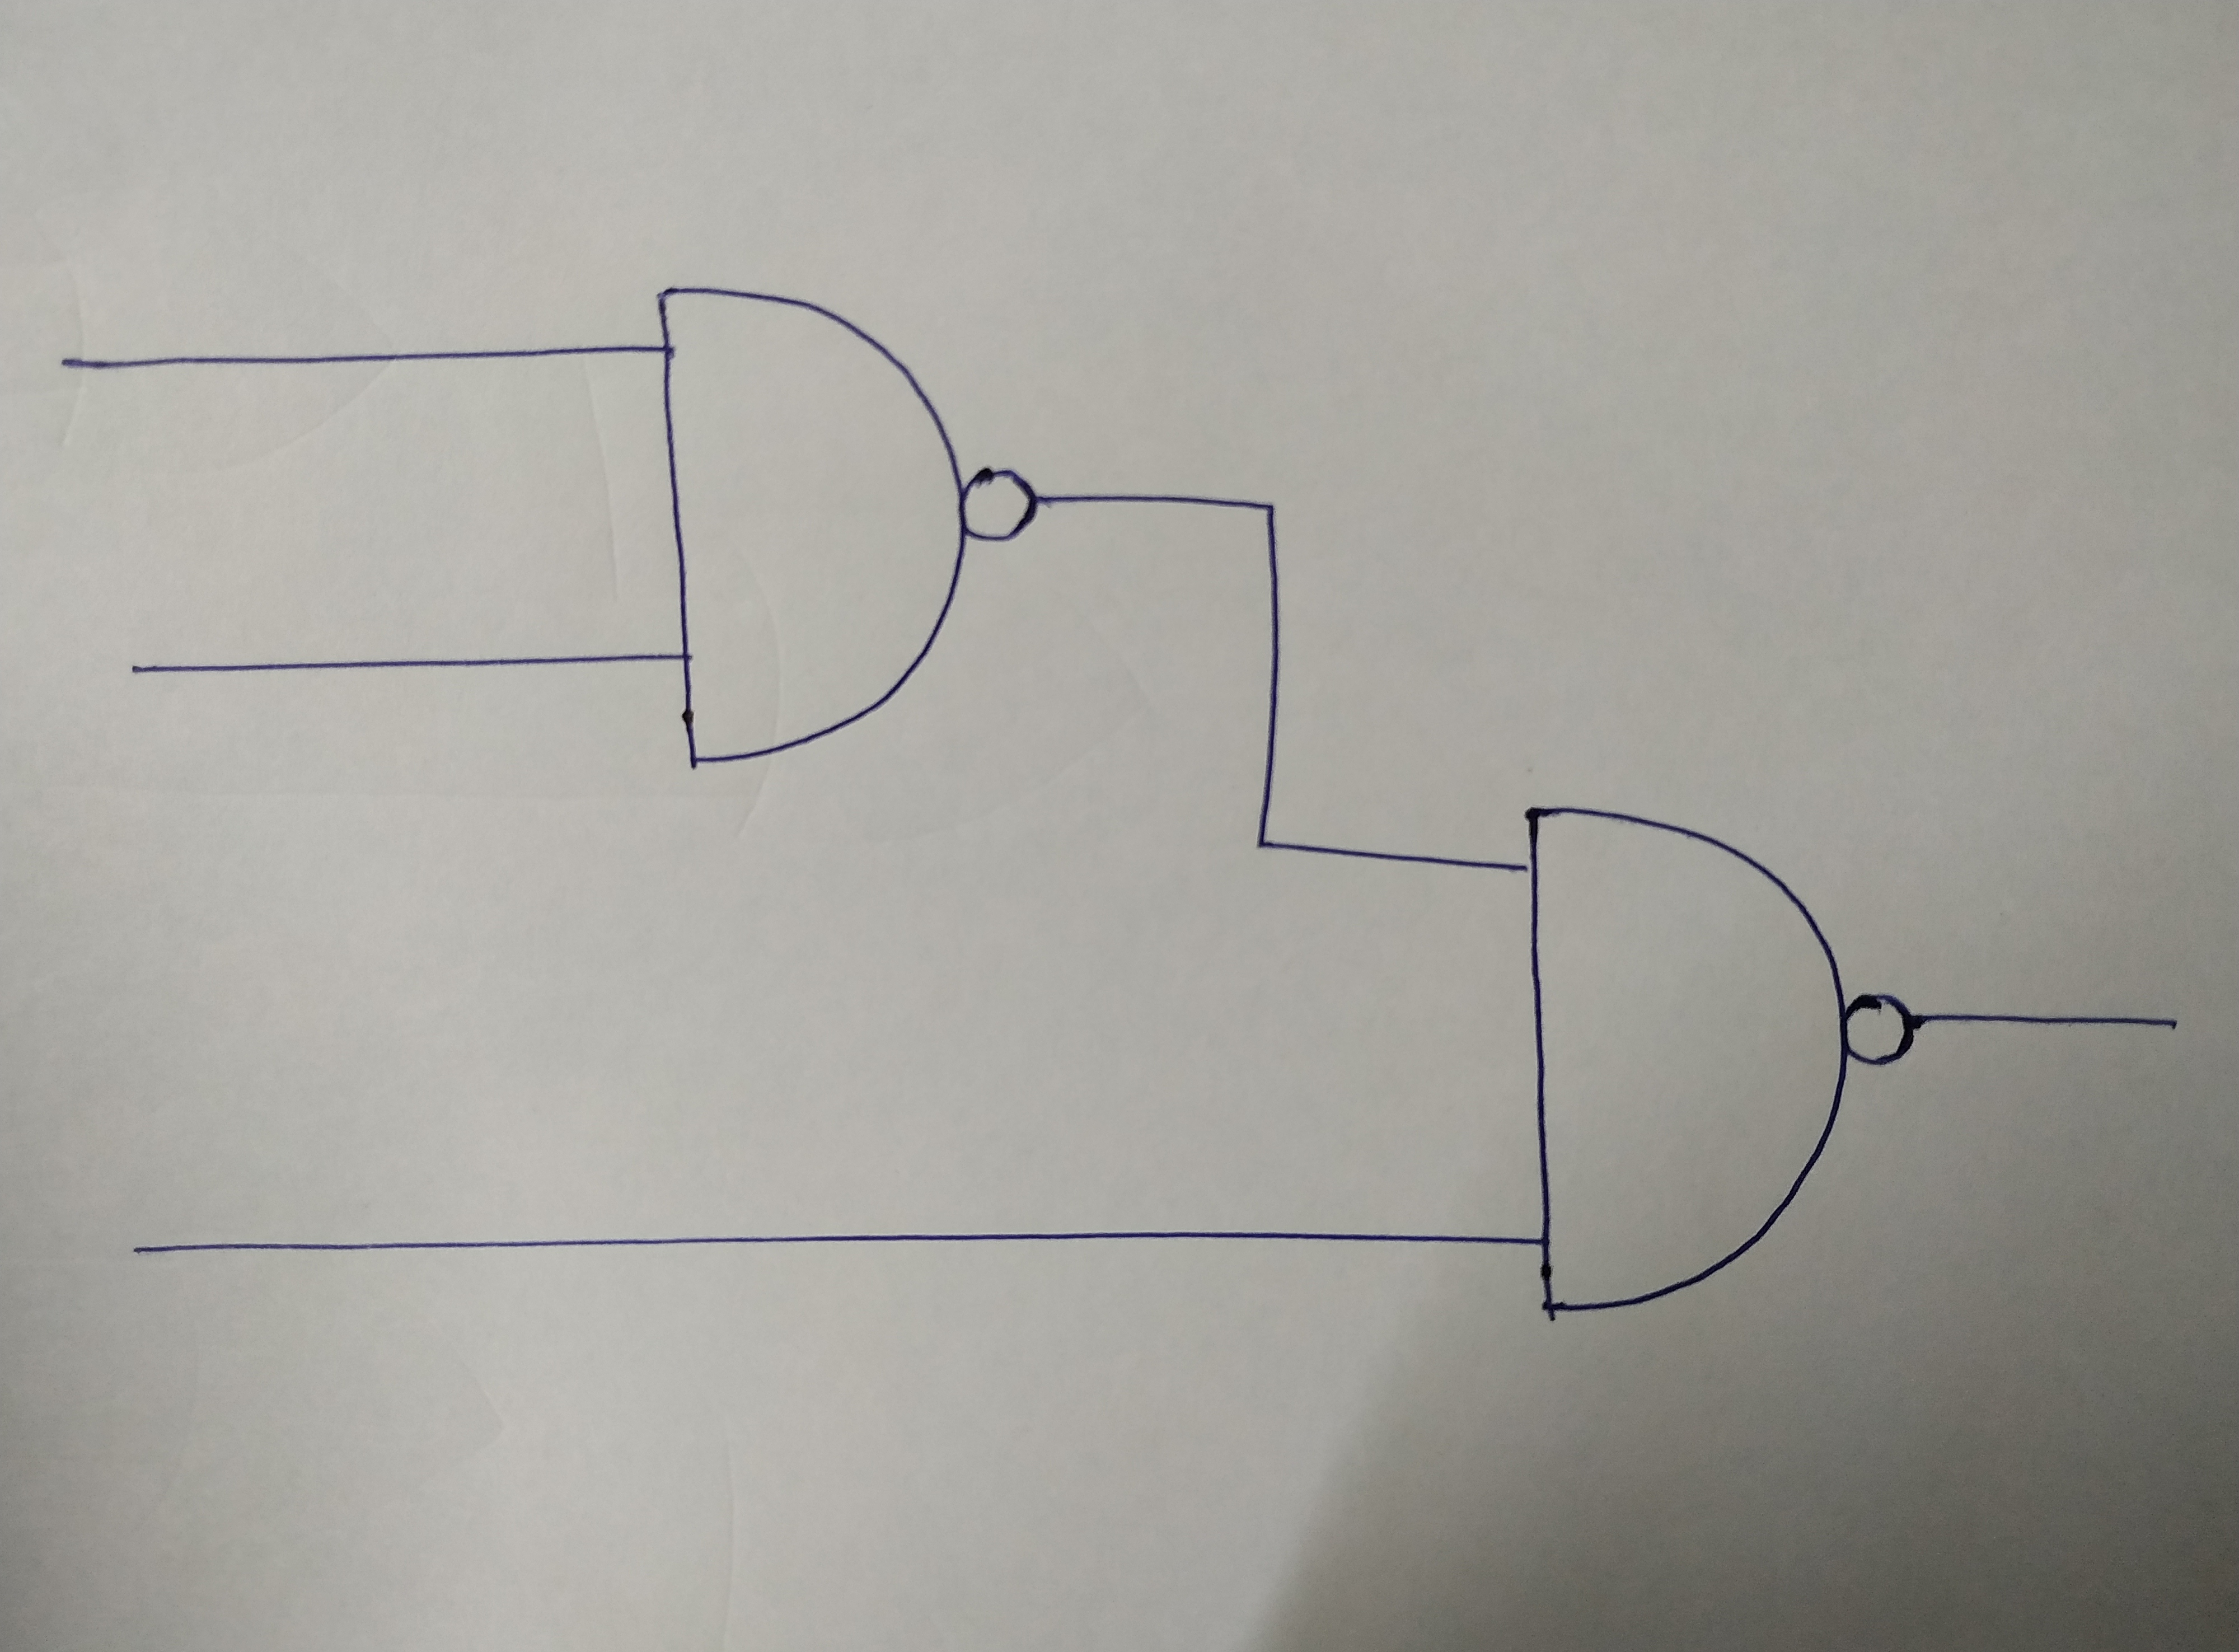and: (1523, 810, 1837, 1306), (650, 287, 958, 760)
not: (1846, 988, 1916, 1066), (963, 471, 1034, 543)
